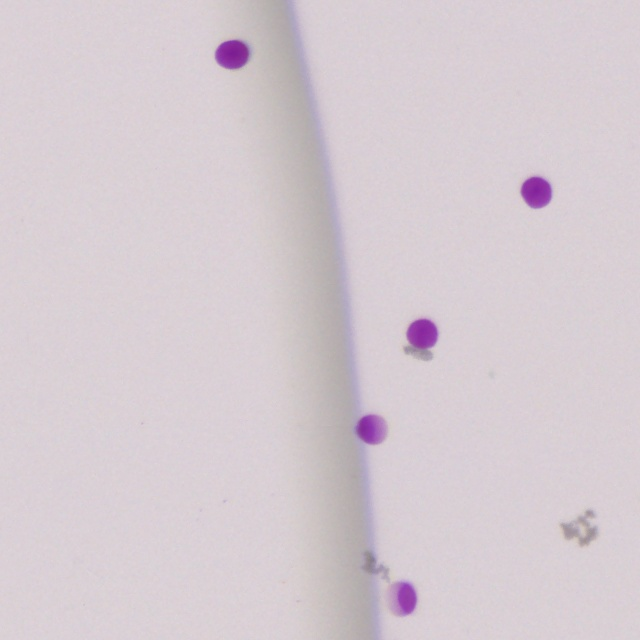viable: (404, 320, 437, 360), (388, 582, 417, 615), (216, 41, 249, 69), (522, 177, 551, 208), (356, 415, 387, 444), (407, 320, 437, 348), (397, 583, 416, 614)
